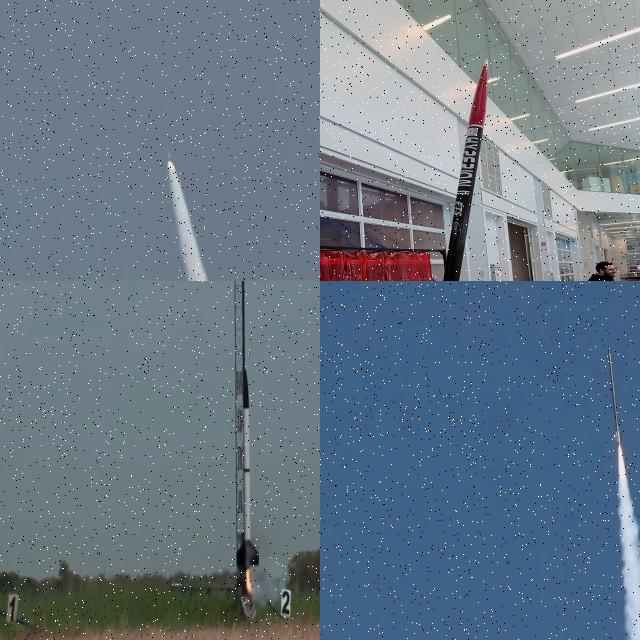Rocket: (443, 58, 488, 281), (235, 367, 260, 574), (608, 348, 622, 449), (166, 149, 173, 164)
